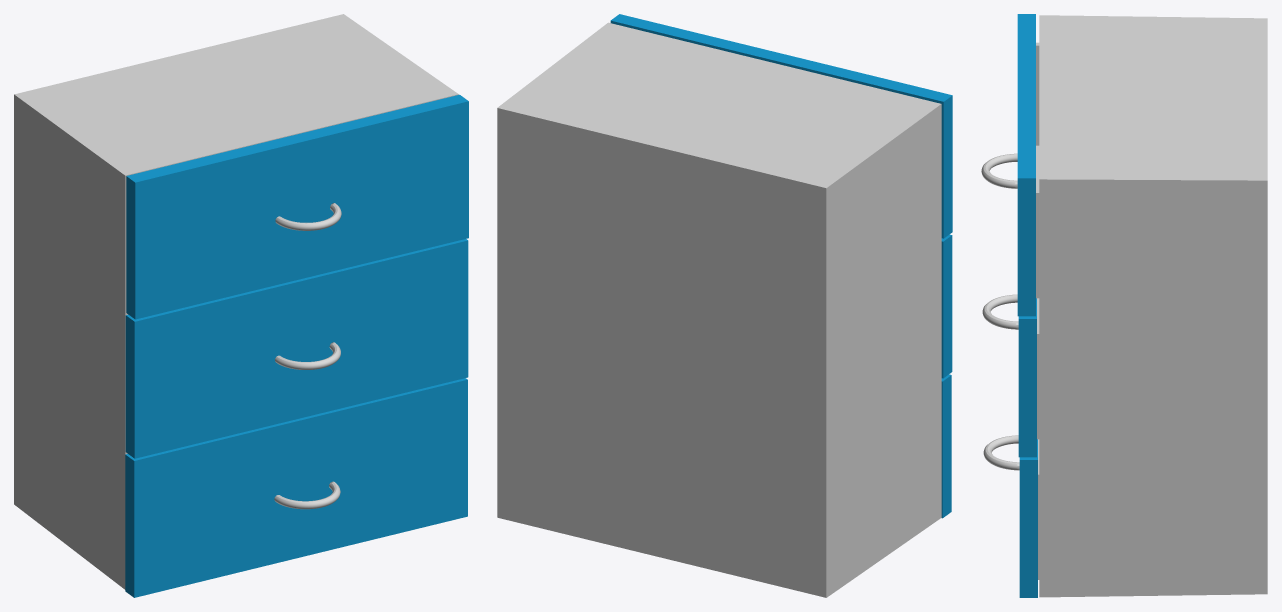
The model's file is szafka.FBX.
3 views of the same model, side by side, from view 1: azimuth 30°, elevation 25°; view 2: azimuth 150°, elevation 25°; view 3: azimuth 270°, elevation 25° (orthographic).
Parts seen in each view (by area): view 1: Box002, Box007, Box006, Box005; view 2: Box002, Box007, Box006, Box005; view 3: Box002, Box007, Box006, Box005.
Part boxes in pixels (bbox=[...]): Box002: bbox=[14, 14, 458, 589]; Box007: bbox=[126, 94, 468, 319]; Box006: bbox=[125, 239, 468, 458]; Box005: bbox=[125, 378, 467, 597]; Box002: bbox=[497, 22, 941, 597]; Box007: bbox=[610, 14, 952, 238]; Box006: bbox=[941, 234, 952, 378]; Box005: bbox=[941, 374, 951, 518]; Box002: bbox=[1039, 15, 1267, 597]; Box007: bbox=[981, 14, 1039, 316]; Box006: bbox=[982, 294, 1039, 457]; Box005: bbox=[983, 435, 1039, 597].
Bounding box in the file's own units: 60.13 × 71.55 × 44.19.
